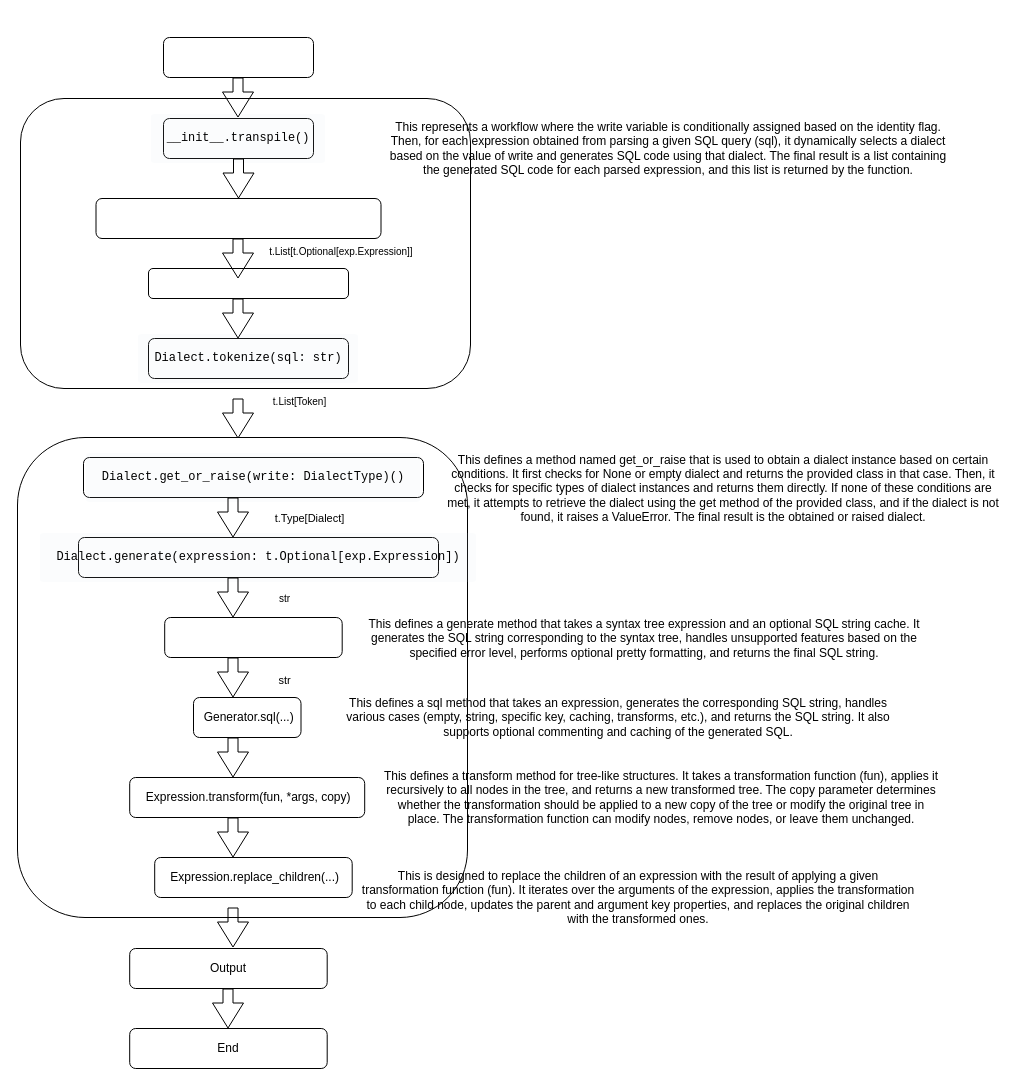
The diagram is 1021 pixels wide and 1086 high, and some of its shapes have lost their labels. The shapes that lost their labels are listed below. From the top down, each one's box as (x1, y1, x2, y2) in pixels, then its label:
(162, 36, 314, 78): Start
(95, 198, 381, 238): __init__.parse( sql: str, read: DialectType)
(148, 268, 348, 298): Dialect.parse(sql: str)
(164, 616, 342, 658): Generator.generate(...) -> str
